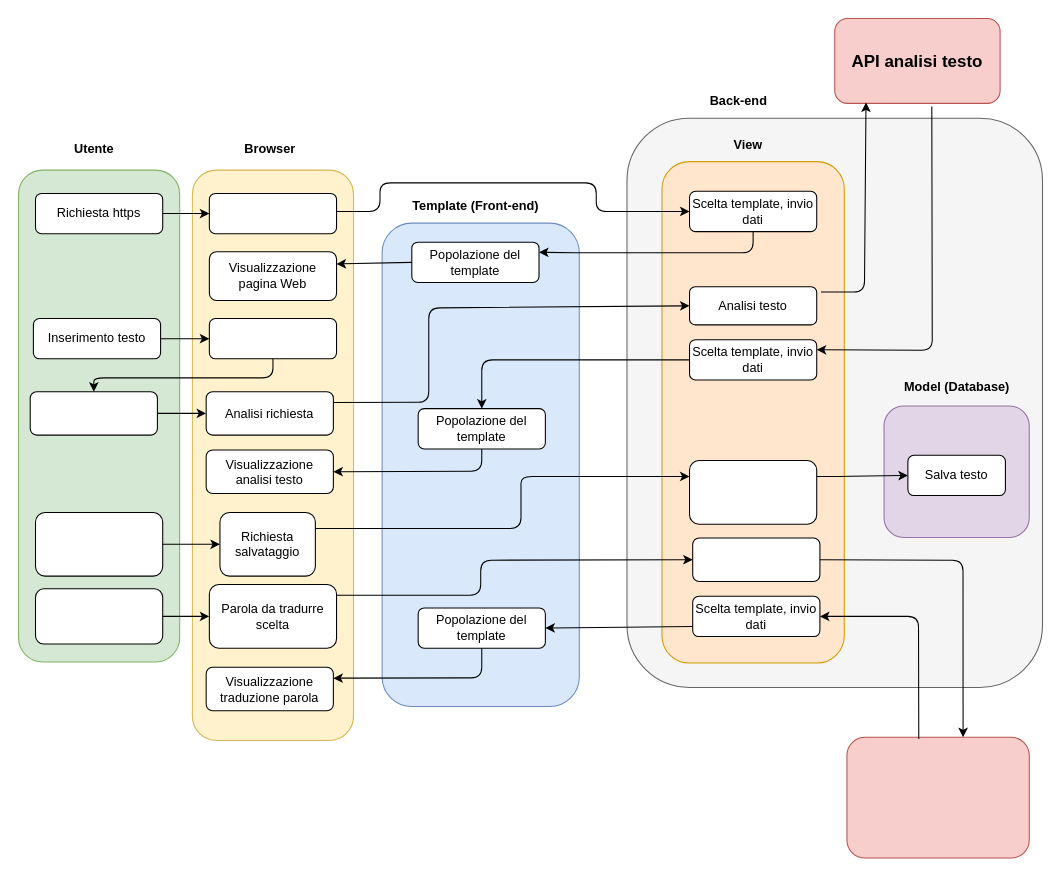
This 1061x877 diagram has some shape labels left out. The box of each missing label's shape, as (x1, y1, x2, y2) in pixels:
API Traduzione Google: (846, 736, 1029, 858)
Connessione tramite Model: (688, 460, 817, 524)
Richiesta analisi testo: (29, 391, 157, 435)
Richiesta pagina web corrispondente: (208, 192, 337, 234)
Richiesta traduzione parola: (34, 588, 163, 644)
Salvataggio analisi testo richiesta: (34, 511, 163, 576)
Testo inserito: (208, 317, 337, 359)
Traduzione parola: (692, 537, 820, 581)
